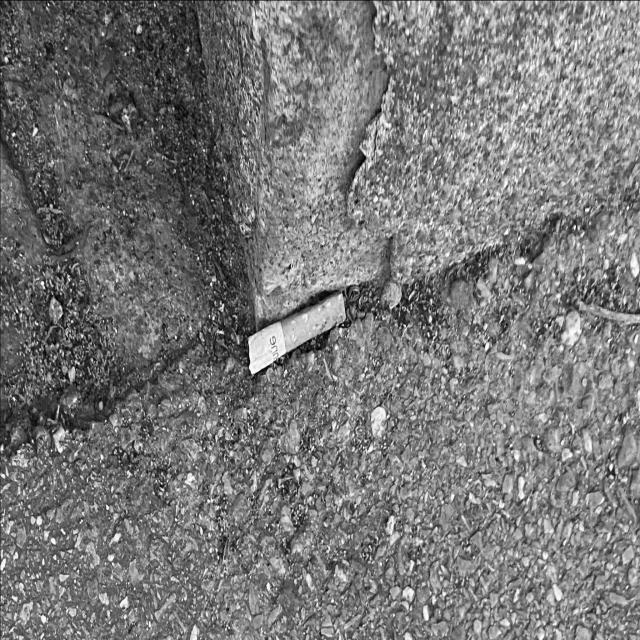other waste: (246, 288, 346, 378)
